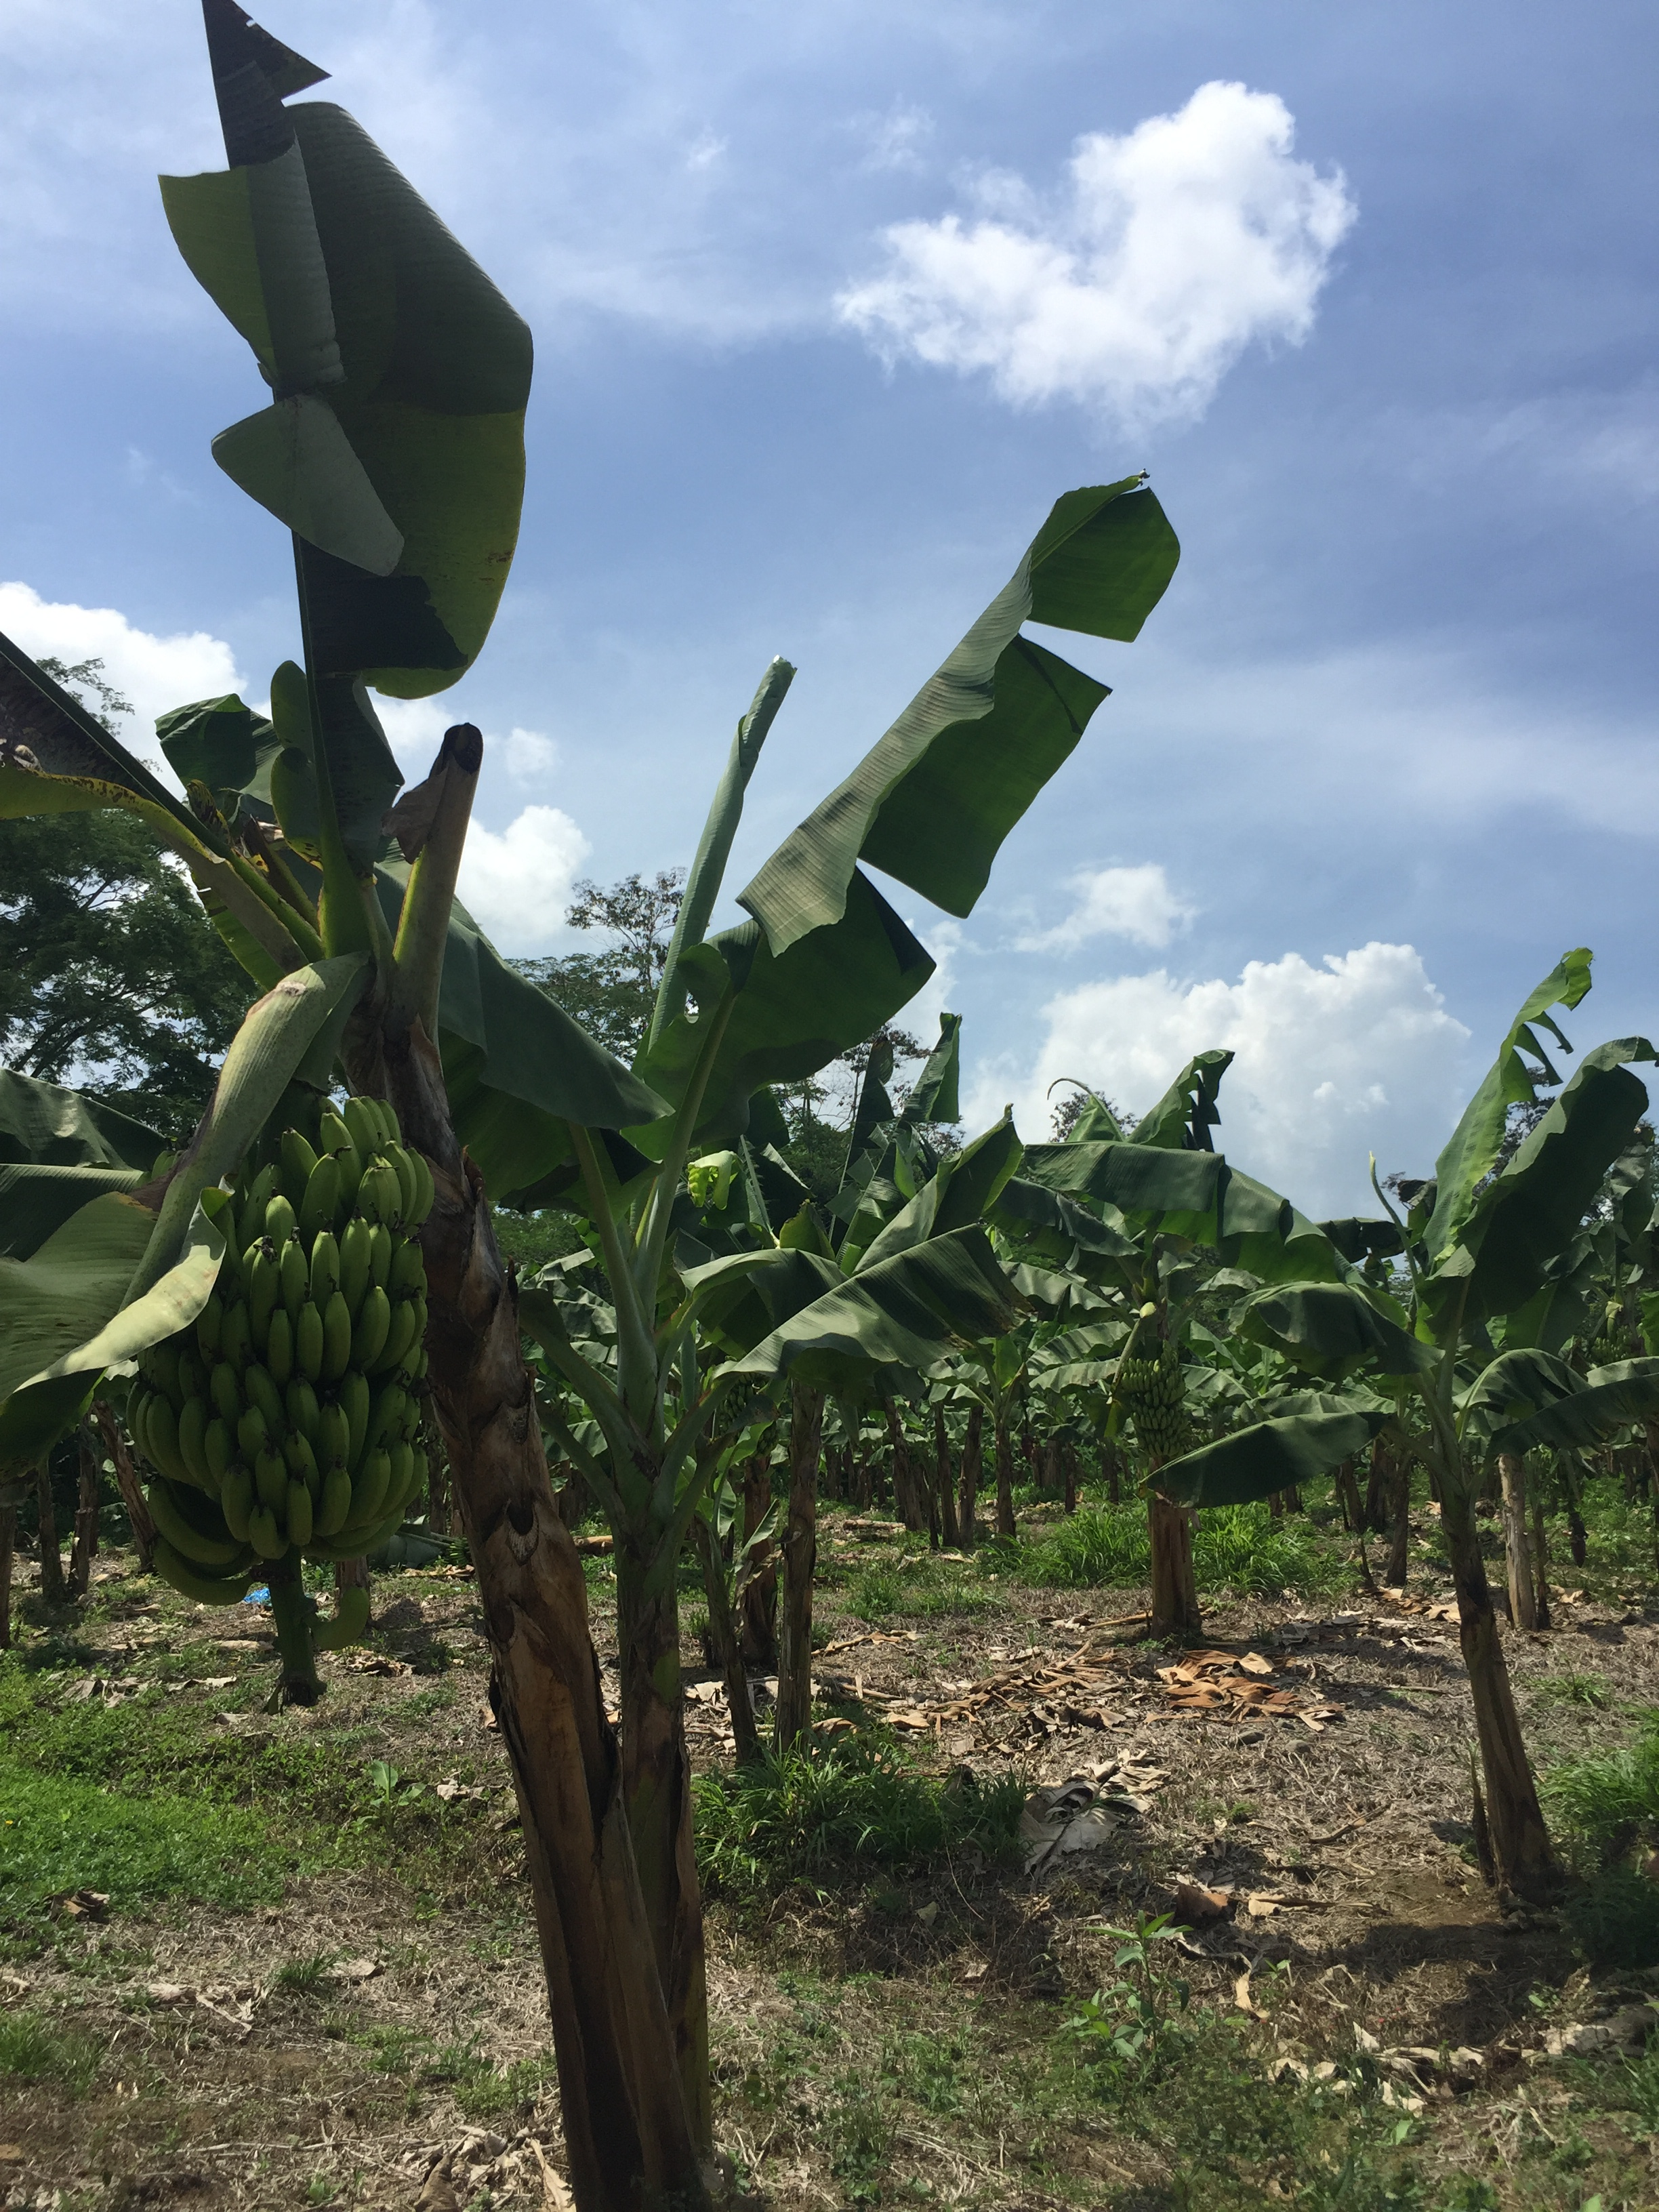candleleafs: (650, 655, 796, 1036), (1368, 1150, 1422, 1282)
